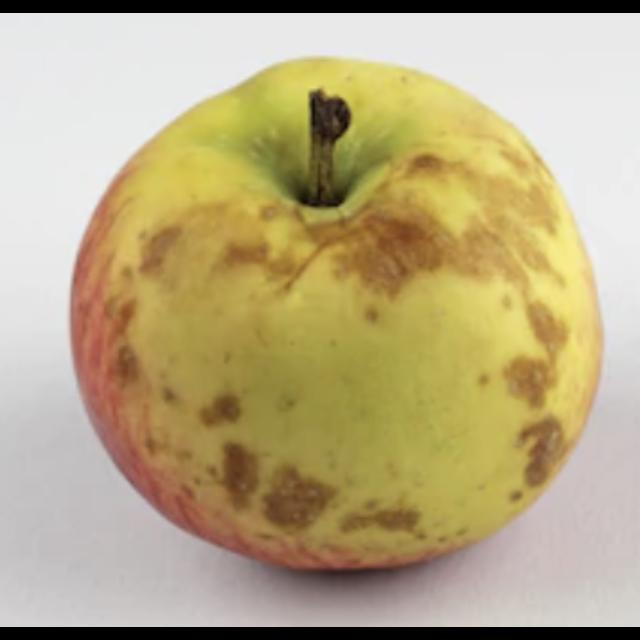Apel Tidak Segar: (67, 56, 607, 574)
